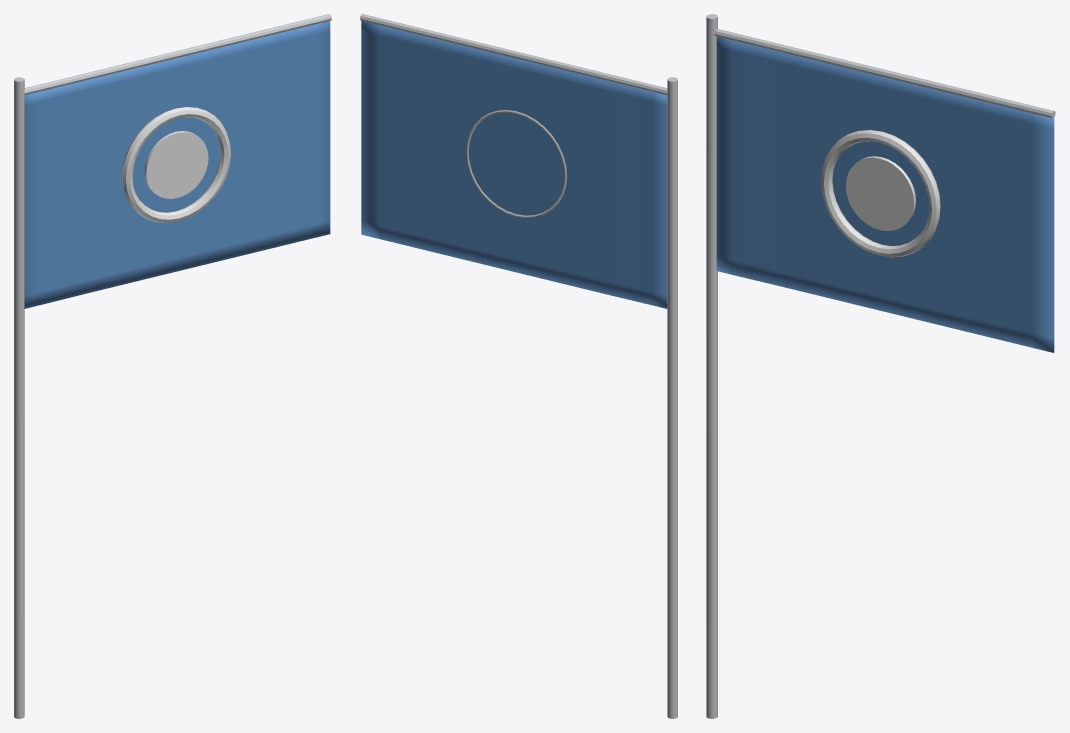
The model's file is flag-un.glb.
3 renders of one model, left to right at view 1: azimuth 30°, elevation 25°; view 2: azimuth 150°, elevation 25°; view 3: azimuth 330°, elevation 25°, orthographic. The views are drawn at different scales.
Visible parts, largest first — view 1: fabric, pole, emblem_ring, emblem_globe, crossbar; view 2: fabric, pole, crossbar, emblem_ring; view 3: fabric, pole, emblem_ring, emblem_globe, crossbar.
Boxes of the visible parts, bbox=[...] form: fabric: bbox=[24, 21, 330, 308]; pole: bbox=[14, 77, 24, 718]; emblem_ring: bbox=[122, 107, 230, 222]; emblem_globe: bbox=[144, 131, 208, 198]; crossbar: bbox=[24, 14, 331, 95]; fabric: bbox=[361, 20, 667, 308]; pole: bbox=[667, 77, 677, 718]; crossbar: bbox=[360, 14, 667, 95]; emblem_ring: bbox=[466, 110, 566, 218]; fabric: bbox=[716, 36, 1054, 352]; pole: bbox=[706, 14, 717, 718]; emblem_ring: bbox=[821, 130, 940, 257]; emblem_globe: bbox=[846, 156, 915, 230]; crossbar: bbox=[713, 29, 1055, 118].
Size of the model in its own units: 1.52 by 2.94 by 0.06.
